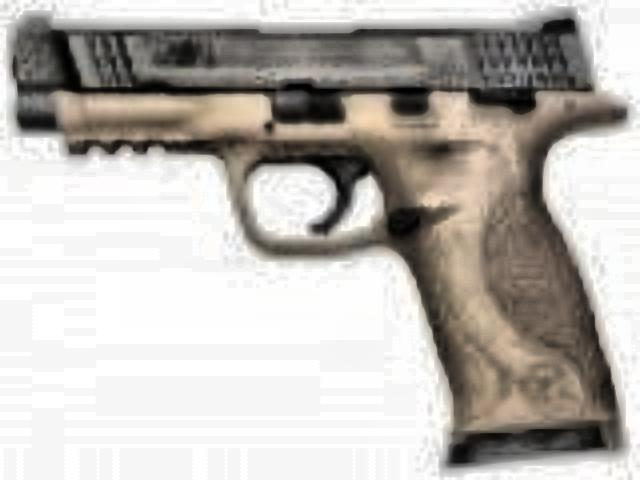pistol: (12, 12, 624, 452)
